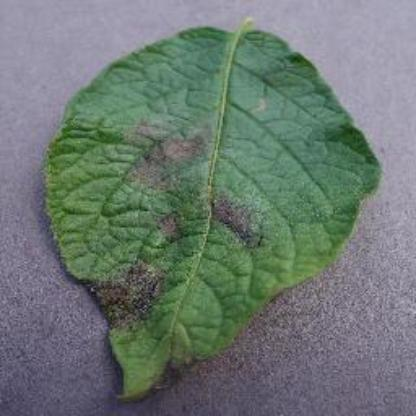Late-Blight: (51, 9, 395, 404)
